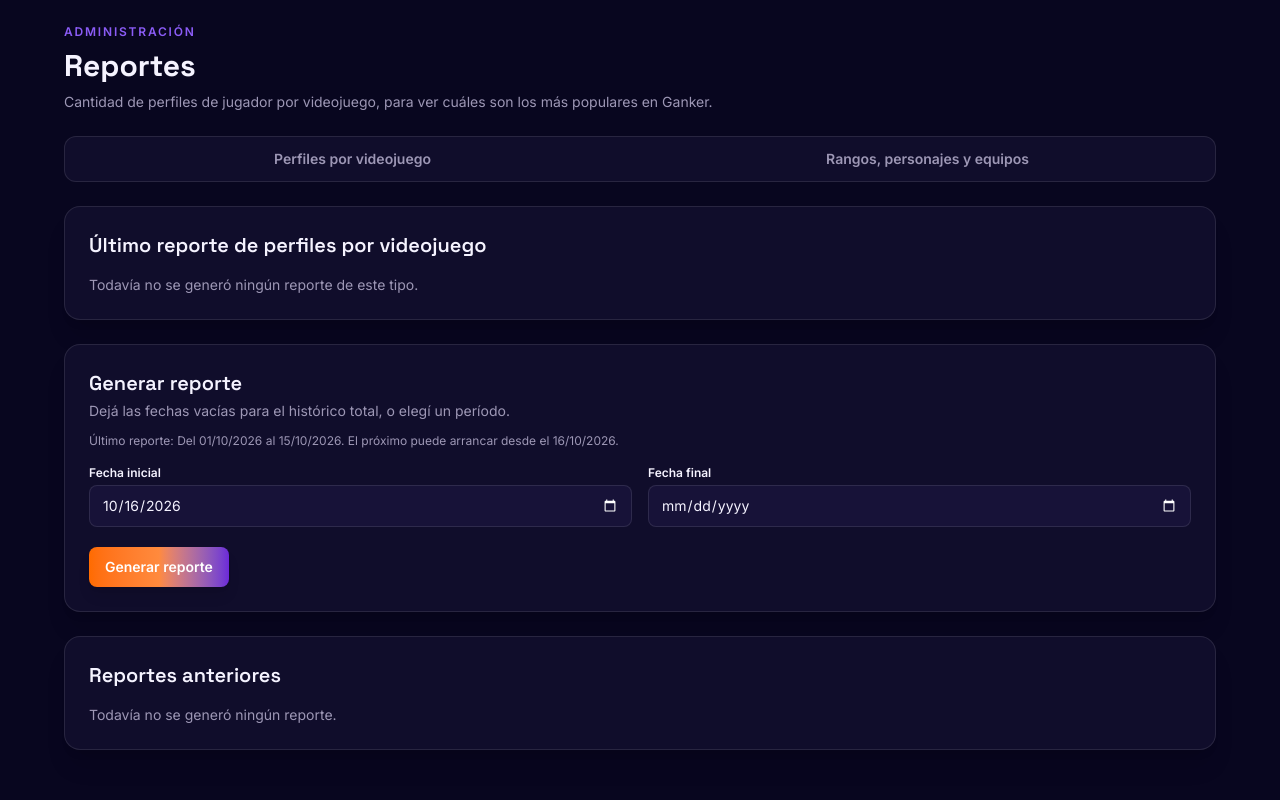
Test: ReportesPage - US 37 Reporte de jugadores por videojuego › con un reporte previo preselecciona el inicio y no deja arrancar antes
Step 1. Type "2026-10-10" into the date field showing "2026-10-16" → (360, 506), box [89,485,632,527]
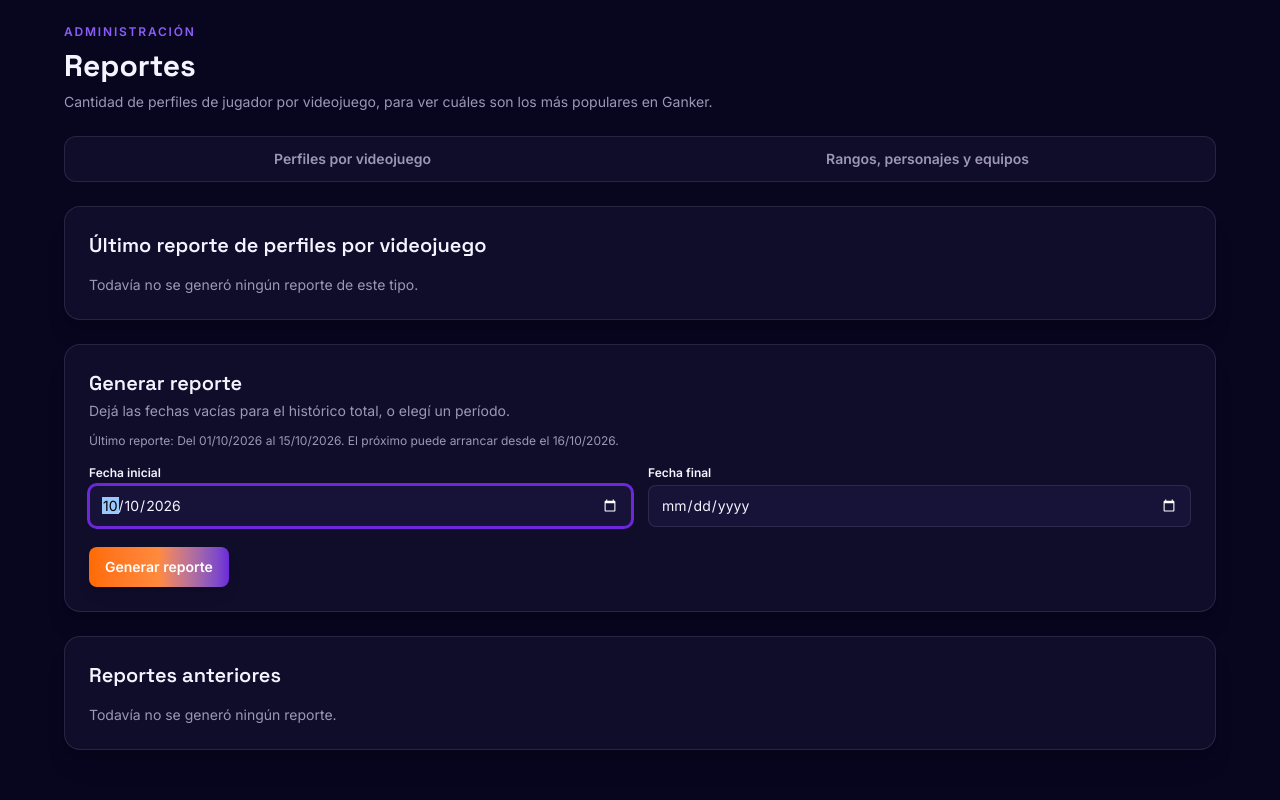
Step 2. Click the button "Generar reporte" → (159, 567), box [89,547,229,587]
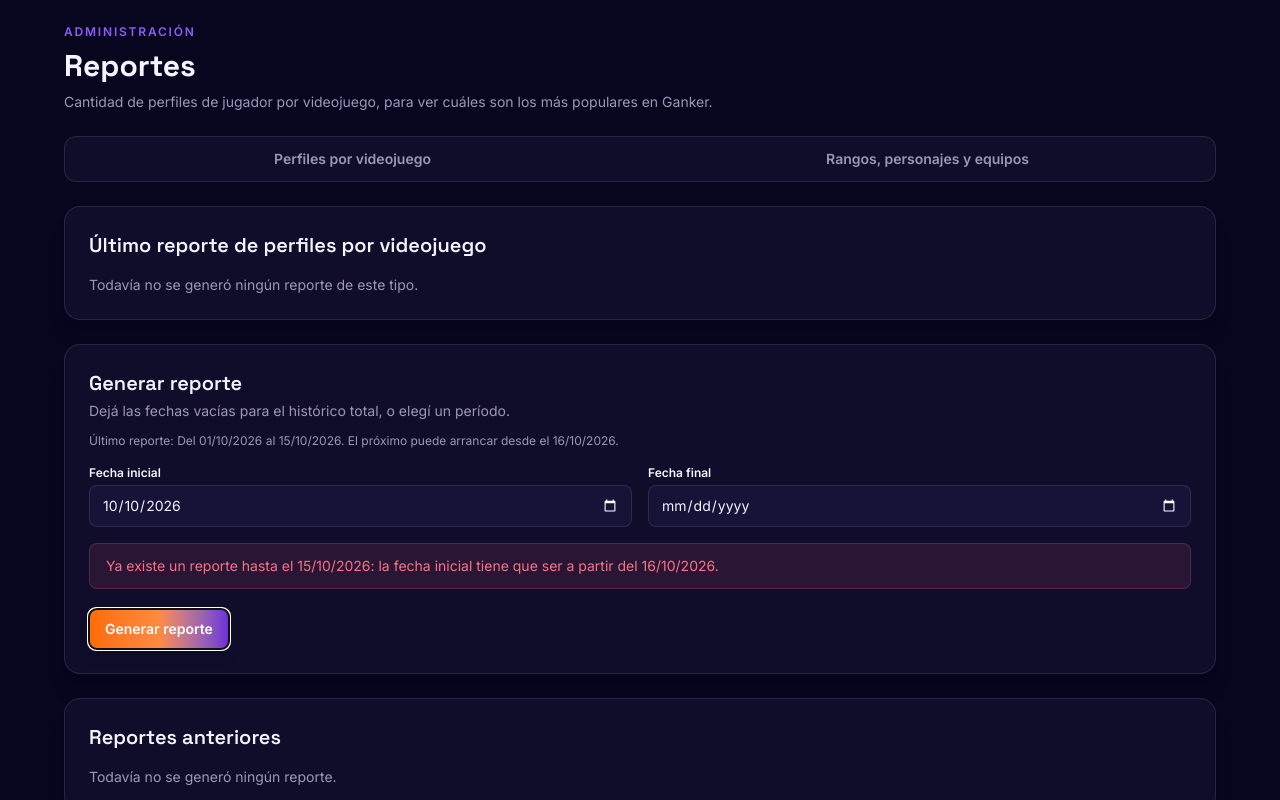
expect the text "la fecha inicial tiene que ser a partir del 16/10/2026" is shown: met, box [106,557,719,574]
